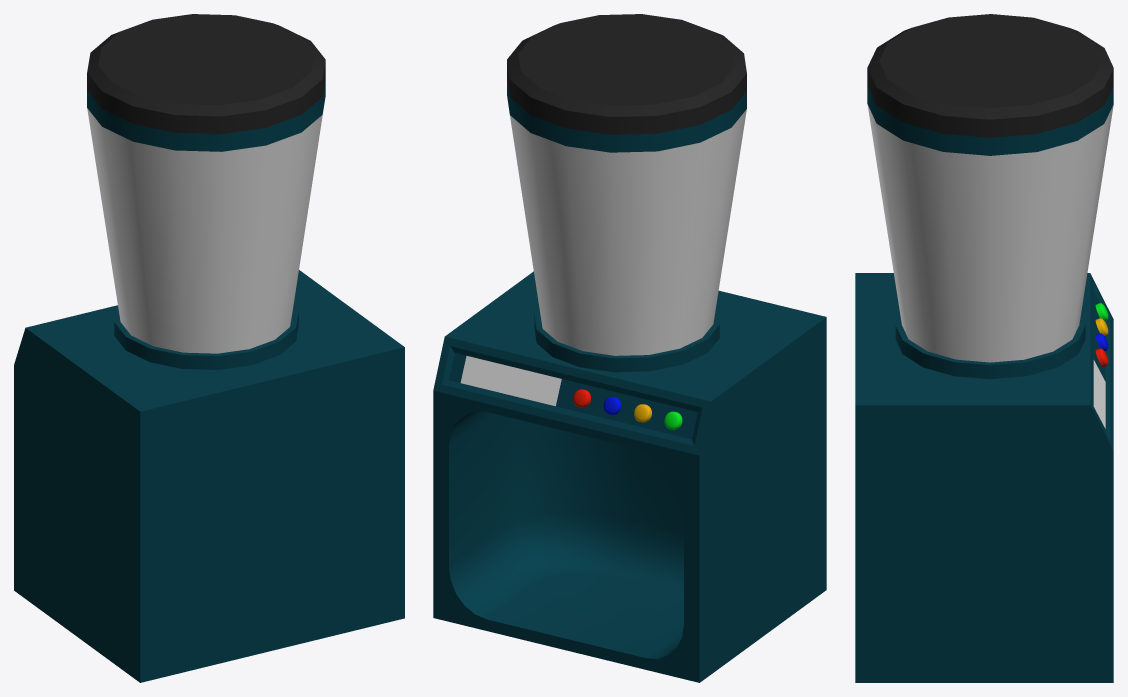
Rendered from BLENDER_X3000.fbx.
3 views of the same model, side by side, from view 1: azimuth 30°, elevation 25°; view 2: azimuth 150°, elevation 25°; view 3: azimuth 270°, elevation 25° (orthographic). The views are drawn at different scales.
Visible parts, largest first — view 1: Cube.021, UPPER PART; view 2: Cube.021, UPPER PART; view 3: Cube.021, UPPER PART.
Part boxes in pixels (x1,y1,x2,y2): Cube.021: (14, 79, 404, 682); UPPER PART: (87, 14, 325, 134); Cube.021: (433, 79, 826, 682); UPPER PART: (507, 14, 746, 134); Cube.021: (855, 86, 1113, 682); UPPER PART: (867, 14, 1113, 137).
Size of the model in its own units: 25.43 by 49.83 by 21.01.
